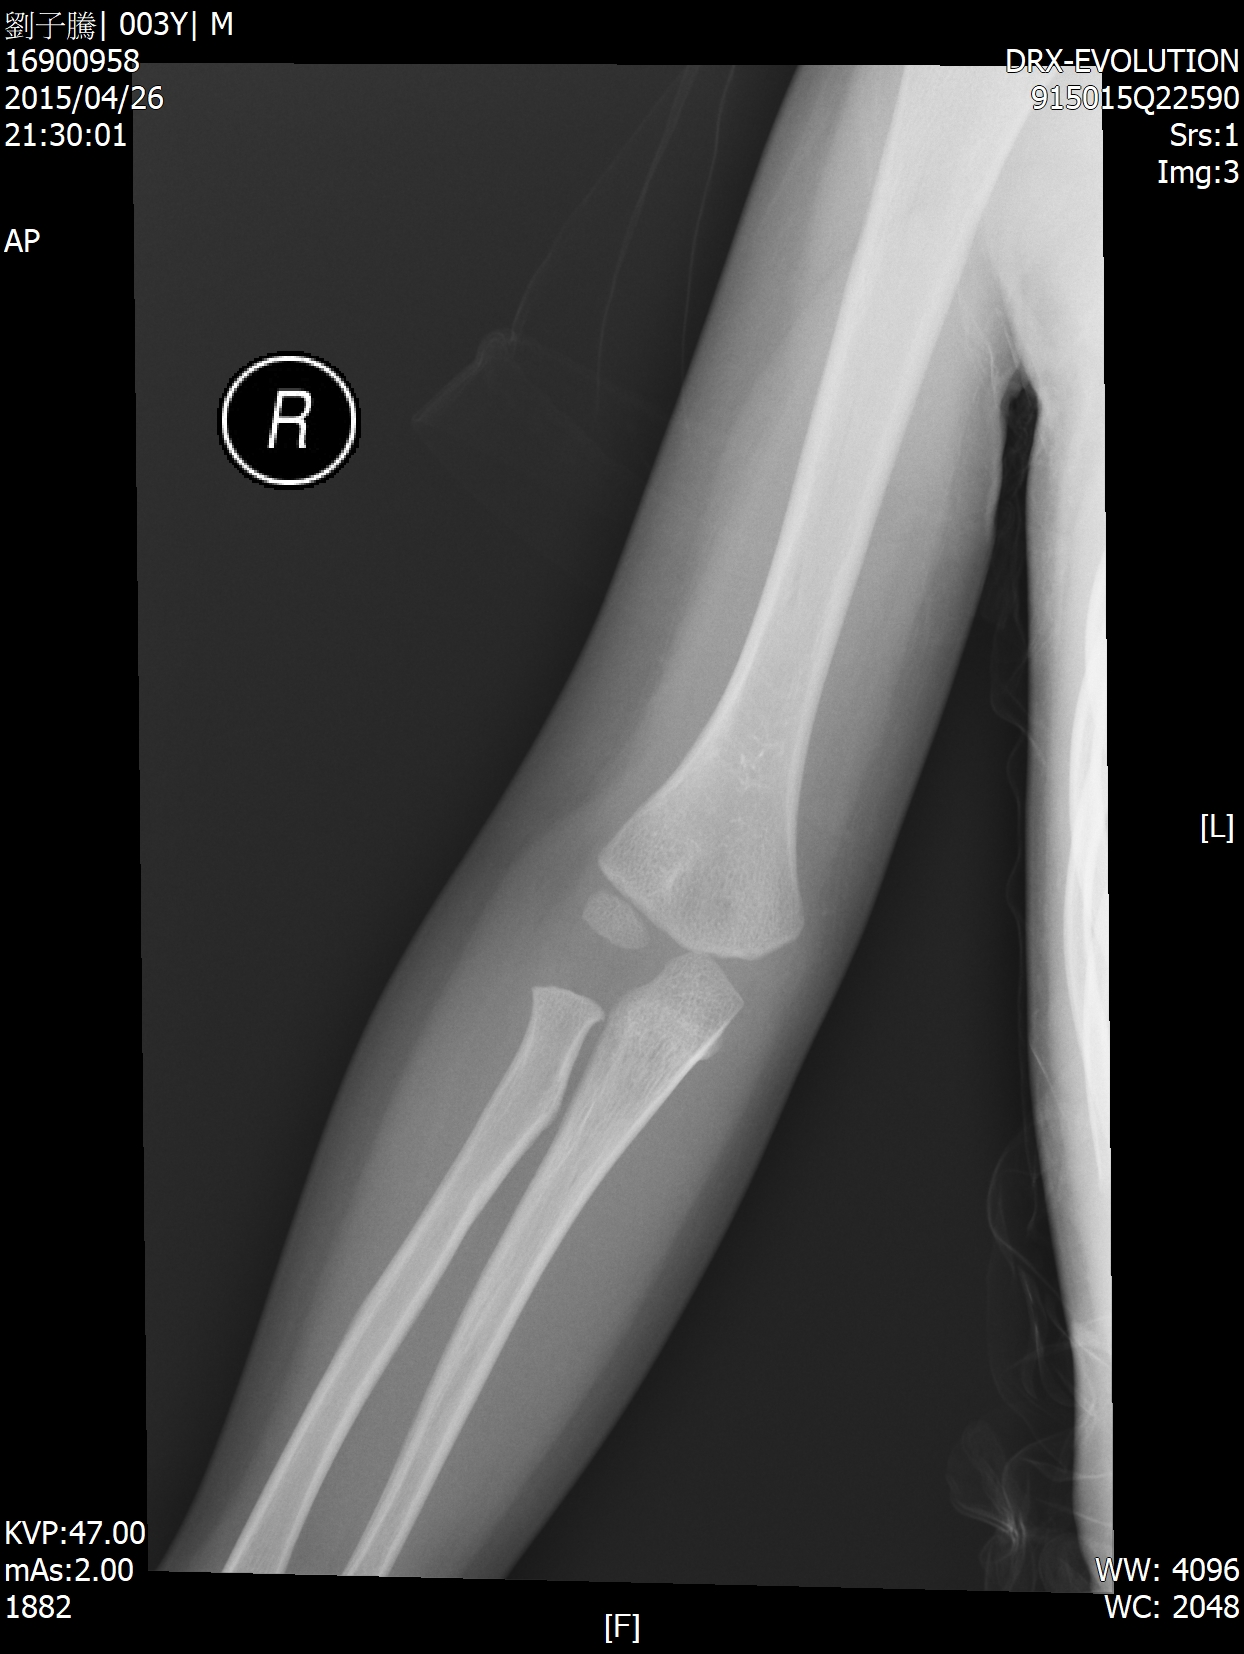Normal: (433, 660, 924, 1188)
